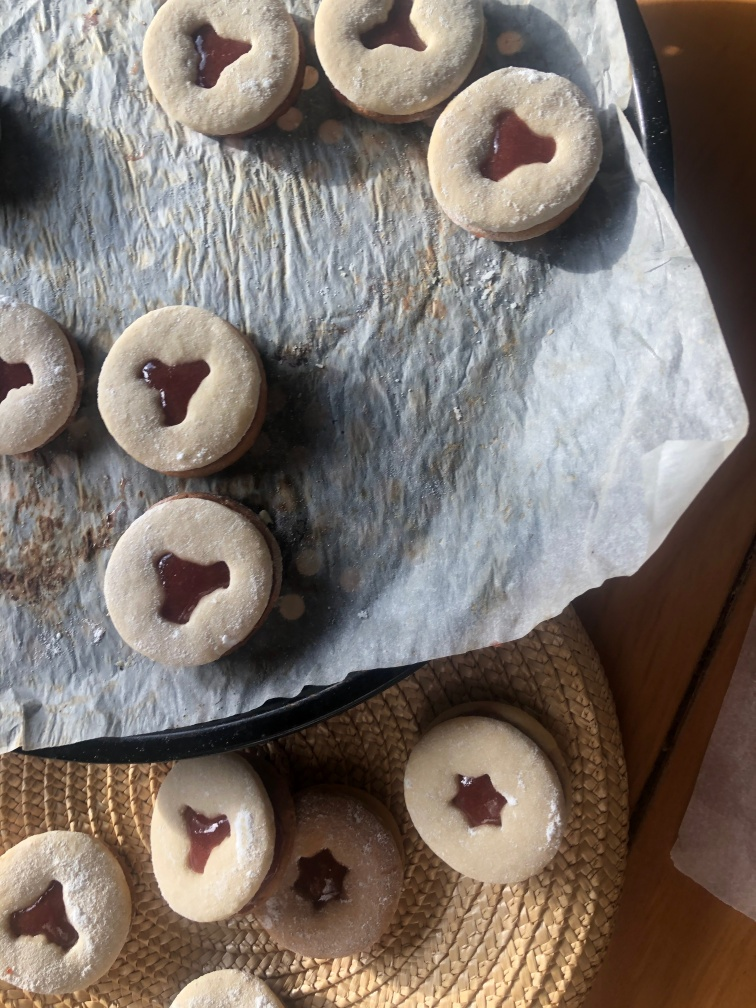christmas shortbread with jam: (401, 705, 567, 891), (430, 63, 599, 244), (101, 496, 271, 672), (95, 301, 261, 473), (1, 818, 137, 1005), (137, 1, 304, 138), (272, 788, 400, 961), (313, 5, 487, 126), (147, 757, 267, 924), (2, 297, 77, 454)
